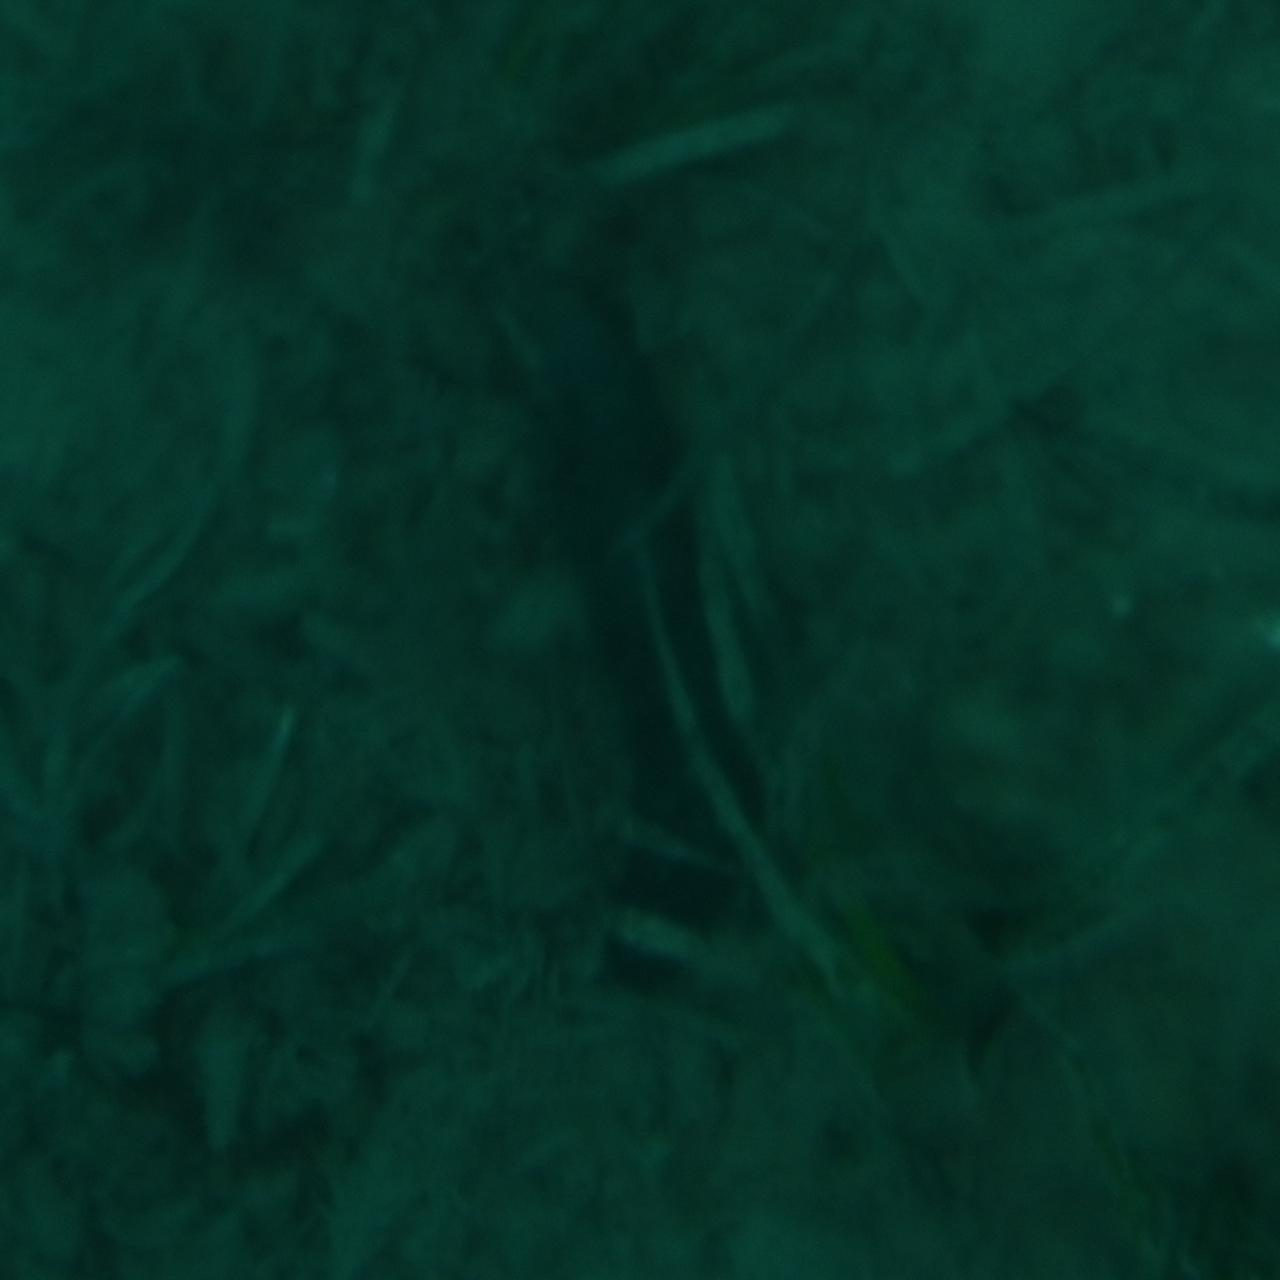Holothuria tubulosa: (503, 250, 777, 1030)
